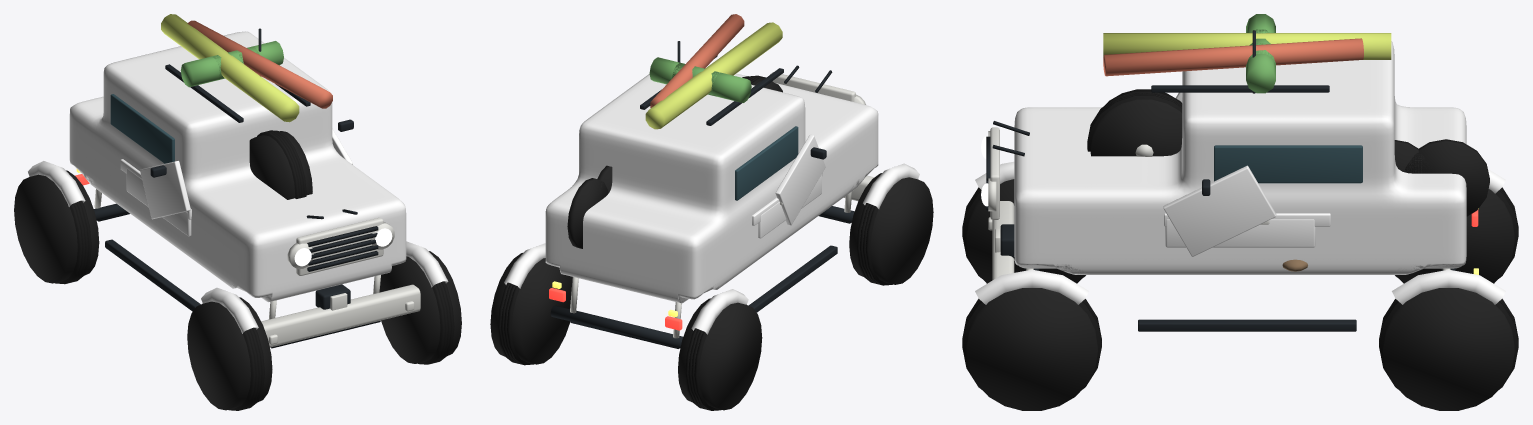
File: utility.glb
The picture shows the model from 3 angles, left to right: view 1: azimuth 30°, elevation 25°; view 2: azimuth 150°, elevation 25°; view 3: azimuth 270°, elevation 25°; orthographic projection. The views are drawn at different scales.
Parts seen in each view (by area): view 1: Body, LOD_Body, Wheel0_tire, Wheel2_tire, Wheel1_tire, Det_bumper, Acc_kayak, Acc_spare_tire, Acc_kayakb, Glass_sideL, Accent_chevron.001, Det_grille (+12 smaller); view 2: Body, LOD_Body, Wheel2_tire, Wheel0_tire, Wheel3_tire, Acc_kayak, Accent_chevron.001, Glass_sideL, Acc_kayakb, Det_axler, Acc_bike, Det_slider (+11 smaller); view 3: Body, LOD_Body, Wheel1_tire, Wheel3_tire, Accent_chevron, Acc_kayakb, Glass_sideR, Acc_spare_tire, Acc_kayak, Wheel2_tire, Acc_bike, Det_slider.001 (+14 smaller).
Part boxes in pixels (bbox=[...]): Body: bbox=[69, 31, 406, 302]; LOD_Body: bbox=[69, 32, 406, 301]; Wheel0_tire: bbox=[187, 297, 272, 410]; Wheel2_tire: bbox=[14, 170, 99, 283]; Wheel1_tire: bbox=[379, 251, 461, 363]; Det_bumper: bbox=[261, 284, 420, 347]; Acc_kayak: bbox=[161, 14, 299, 122]; Acc_spare_tire: bbox=[249, 131, 312, 199]; Acc_kayakb: bbox=[187, 20, 332, 108]; Glass_sideL: bbox=[110, 94, 174, 163]; Accent_chevron.001: bbox=[140, 160, 190, 219]; Det_grille: bbox=[296, 217, 383, 275]; Body: bbox=[545, 73, 878, 303]; LOD_Body: bbox=[545, 74, 878, 302]; Wheel2_tire: bbox=[678, 298, 762, 410]; Wheel0_tire: bbox=[849, 173, 933, 284]; Wheel3_tire: bbox=[490, 252, 572, 364]; Acc_kayak: bbox=[645, 22, 782, 129]; Accent_chevron.001: bbox=[775, 134, 825, 225]; Glass_sideL: bbox=[735, 126, 798, 200]; Acc_kayakb: bbox=[650, 14, 744, 107]; Det_axler: bbox=[550, 305, 682, 347]; Acc_bike: bbox=[567, 178, 608, 248]; Det_slider: bbox=[749, 245, 837, 312]; Body: bbox=[1014, 45, 1466, 274]; LOD_Body: bbox=[1014, 41, 1466, 274]; Wheel1_tire: bbox=[966, 288, 1097, 410]; Wheel3_tire: bbox=[1383, 288, 1514, 410]; Accent_chevron: bbox=[1163, 165, 1276, 256]; Acc_kayakb: bbox=[1103, 38, 1363, 76]; Glass_sideR: bbox=[1214, 145, 1362, 183]; Acc_spare_tire: bbox=[1090, 89, 1182, 156]; Acc_kayak: bbox=[1103, 33, 1391, 59]; Wheel2_tire: bbox=[1396, 189, 1514, 283]; Acc_bike: bbox=[1404, 139, 1489, 216]; Det_slider.001: bbox=[1138, 319, 1356, 331].
Size of the model in its own units: 2.23 by 2.7 by 4.06.
